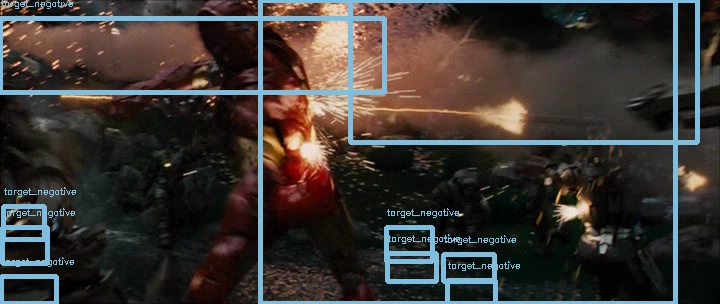person: (198, 1, 255, 63), (197, 1, 254, 63), (199, 1, 256, 63), (198, 0, 255, 62), (198, 2, 255, 64)
target_negative: (310, 82, 592, 195), (240, 195, 374, 263), (530, 185, 635, 250), (46, 290, 495, 299), (540, 205, 666, 223), (282, 42, 393, 56)
